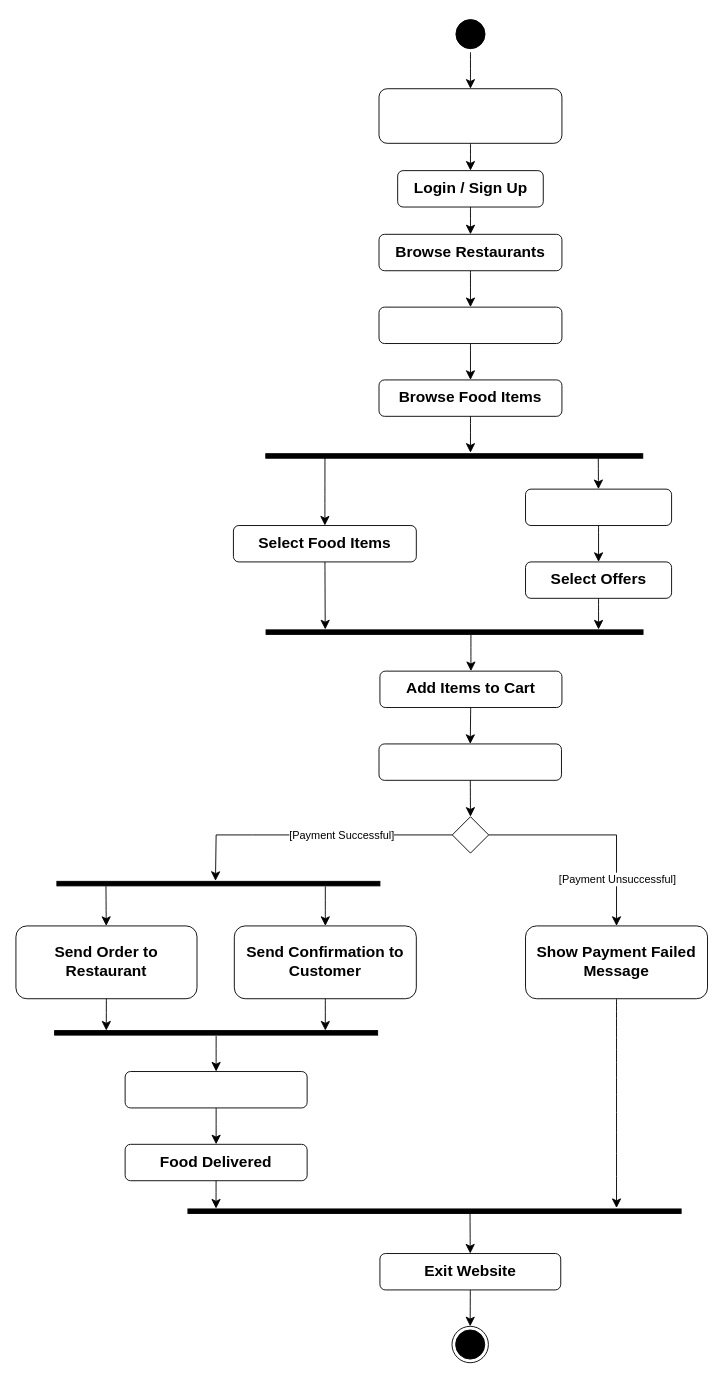
Some shapes in this 723 by 1379 pixel diagram are drawn without their labels. The centre of each missing label's shape, as x and y in pixels:
"Browse Offers" goes at point 598,507.
"Open Food Ordering Website" goes at point 470,115.
"Proceed to Checkout" goes at point 469,761.
"Select Restaurant" goes at point 470,325.
"Track Order" goes at point 215,1089.
